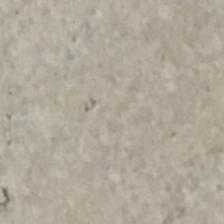Non_Crack: (10, 22, 224, 188)
